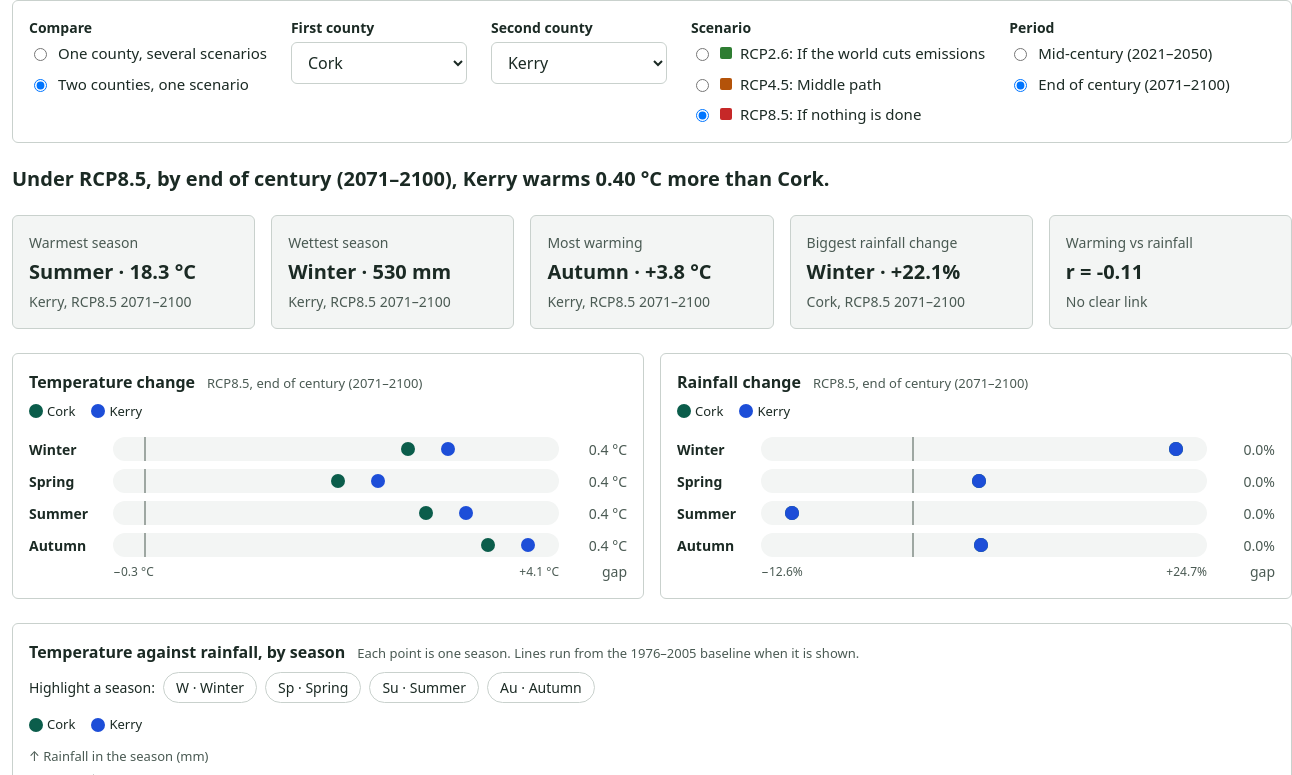
CompareExplorer › two counties › changes the scenario and period, and writes them to the address
This screenshot has width=1292, height=775.
Expected: the text "Warmest season" is shown, [29,232,138,252]
Click the radio button labelled "RCP4.5: Middle path": (702,85) [696,79,709,92]
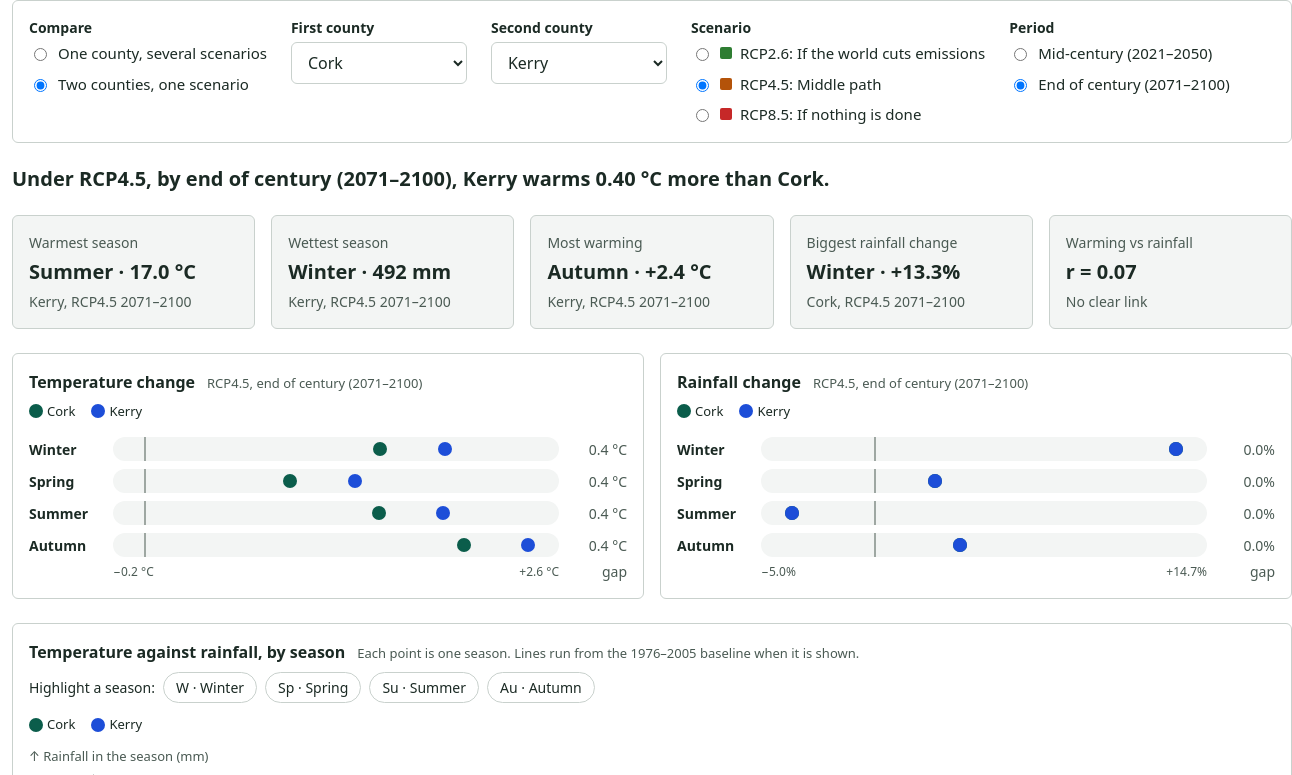
Click the radio button labelled "Mid-century (2021–2050)": (1021,55) [1014,48,1027,61]
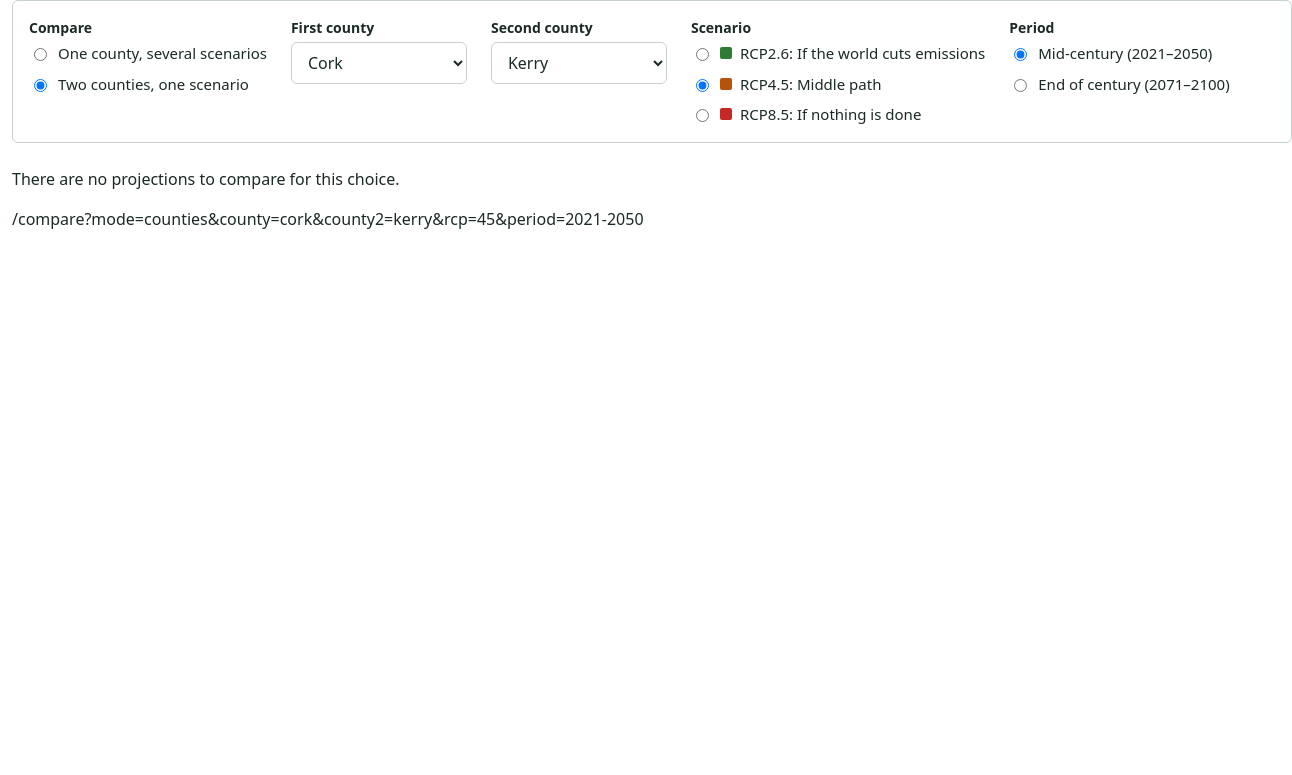
Result: the text with test id "current-location" shows "period=2021-2050" at [12,208,644,230]
